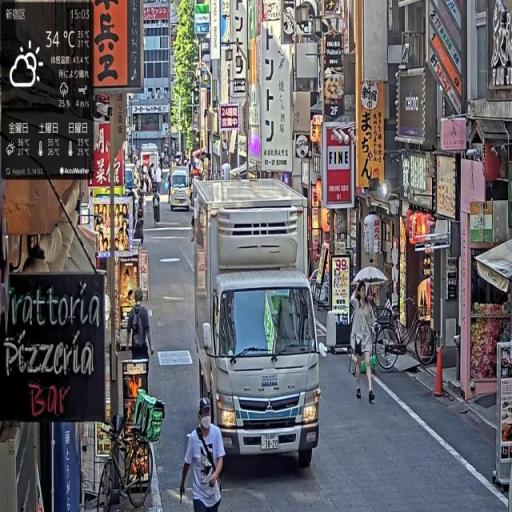person: (181, 394, 226, 512), (351, 279, 377, 405), (127, 288, 154, 400), (153, 188, 163, 229)
